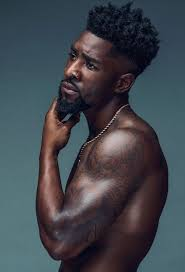s.black: (80, 74, 111, 98)
